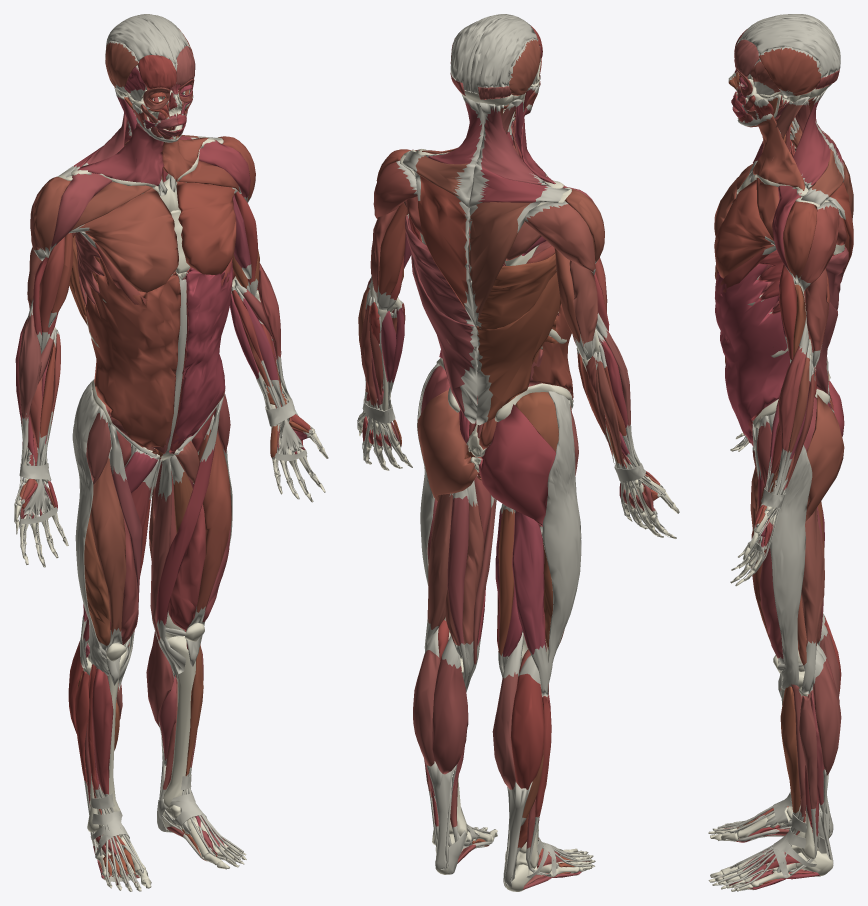
The picture shows the model from 3 angles, left to right: view 1: azimuth 30°, elevation 25°; view 2: azimuth 150°, elevation 25°; view 3: azimuth 270°, elevation 25°; orthographic projection. The views are drawn at different scales.
Parts seen in each view (by area): view 1: muscle_external_abdominal_oblique_muscle_r, reference_skeleton, muscle_sternocostal_head_of_pectoralis_major_muscle_r, muscle_external_abdominal_oblique_muscle_l, muscle_sternocostal_head_of_pectoralis_major_muscle_l, muscle_rectus_femoris_muscle_r, muscle_rectus_femoris_muscle_l, muscle_sartorius_muscle_l, muscle_iliotibial_tract_r, muscle_platysma_r, muscle_vastus_medialis_muscle_l, muscle_gracilis_muscle_l (+43 smaller); view 2: muscle_latissimus_dorsi_muscle_r, reference_skeleton, muscle_iliotibial_tract_r, muscle_latissimus_dorsi_muscle_l, muscle_gluteus_maximus_muscle_r, muscle_descending_part_of_trapezius_muscle_l, muscle_long_head_of_biceps_femoris_r, muscle_descending_part_of_trapezius_muscle_r, muscle_gluteus_maximus_muscle_l, muscle_medial_head_of_gastrocnemius_l, muscle_lateral_head_of_gastrocnemius_r, muscle_epicranial_aponeurosis_r (+35 smaller); view 3: muscle_external_abdominal_oblique_muscle_l, reference_skeleton, muscle_iliotibial_tract_l, muscle_sternocostal_head_of_pectoralis_major_muscle_l, muscle_epicranial_aponeurosis_l, muscle_long_head_of_biceps_femoris_l, muscle_gluteus_maximus_muscle_l, muscle_temporoparietalis_muscle_l, muscle_lateral_head_of_gastrocnemius_l, muscle_platysma_l, muscle_brachioradialis_muscle_l, muscle_acromial_part_of_deltoid_muscle_l (+38 smaller).
Part boxes in pixels (x1=…): muscle_external_abdominal_oblique_muscle_r: x1=86, y1=258, x2=180, y2=447; reference_skeleton: x1=15, y1=64, x2=328, y2=891; muscle_sternocostal_head_of_pectoralis_major_muscle_r: x1=69, y1=188, x2=178, y2=292; muscle_external_abdominal_oblique_muscle_l: x1=173, y1=261, x2=232, y2=443; muscle_sternocostal_head_of_pectoralis_major_muscle_l: x1=176, y1=182, x2=237, y2=274; muscle_rectus_femoris_muscle_r: x1=89, y1=433, x2=126, y2=685; muscle_rectus_femoris_muscle_l: x1=185, y1=414, x2=231, y2=666; muscle_sartorius_muscle_l: x1=156, y1=397, x2=223, y2=673; muscle_iliotibial_tract_r: x1=72, y1=379, x2=109, y2=675; muscle_platysma_r: x1=77, y1=117, x2=174, y2=186; muscle_vastus_medialis_muscle_l: x1=168, y1=504, x2=205, y2=649; muscle_gracilis_muscle_l: x1=150, y1=456, x2=177, y2=678; muscle_latissimus_dorsi_muscle_r: x1=476, y1=253, x2=561, y2=425; reference_skeleton: x1=358, y1=58, x2=679, y2=891; muscle_iliotibial_tract_r: x1=542, y1=391, x2=581, y2=683; muscle_latissimus_dorsi_muscle_l: x1=405, y1=214, x2=477, y2=423; muscle_gluteus_maximus_muscle_r: x1=478, y1=404, x2=555, y2=526; muscle_descending_part_of_trapezius_muscle_l: x1=414, y1=172, x2=476, y2=328; muscle_long_head_of_biceps_femoris_r: x1=512, y1=510, x2=548, y2=696; muscle_descending_part_of_trapezius_muscle_r: x1=469, y1=202, x2=540, y2=326; muscle_gluteus_maximus_muscle_l: x1=417, y1=389, x2=478, y2=501; muscle_medial_head_of_gastrocnemius_l: x1=432, y1=635, x2=468, y2=774; muscle_lateral_head_of_gastrocnemius_r: x1=510, y1=655, x2=544, y2=789; muscle_epicranial_aponeurosis_r: x1=470, y1=15, x2=538, y2=94; muscle_external_abdominal_oblique_muscle_l: x1=715, y1=263, x2=790, y2=442; reference_skeleton: x1=708, y1=58, x2=844, y2=891; muscle_iliotibial_tract_l: x1=768, y1=412, x2=812, y2=689; muscle_sternocostal_head_of_pectoralis_major_muscle_l: x1=714, y1=180, x2=775, y2=278; muscle_epicranial_aponeurosis_l: x1=738, y1=18, x2=840, y2=77; muscle_long_head_of_biceps_femoris_l: x1=801, y1=508, x2=824, y2=694; muscle_gluteus_maximus_muscle_l: x1=805, y1=394, x2=844, y2=521; muscle_temporoparietalis_muscle_l: x1=759, y1=46, x2=821, y2=96; muscle_lateral_head_of_gastrocnemius_l: x1=813, y1=650, x2=841, y2=775; muscle_platysma_l: x1=737, y1=113, x2=805, y2=190; muscle_brachioradialis_muscle_l: x1=773, y1=316, x2=808, y2=494; muscle_acromial_part_of_deltoid_muscle_l: x1=783, y1=201, x2=817, y2=283.
Size of the model in its own units: 0.688 by 1.75 by 0.2741.
